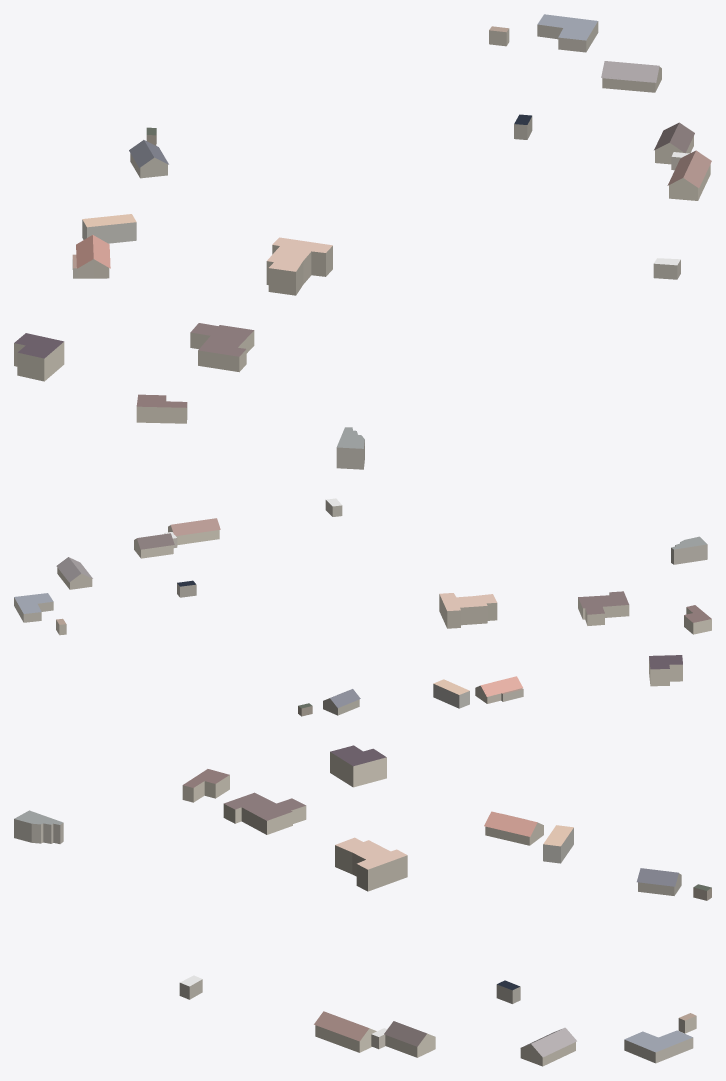
The picture shows the model from 3 angles, top to bottom: view 1: azimuth 30°, elevation 25°; view 2: azimuth 150°, elevation 25°; view 3: azimuth 270°, elevation 25°; orthographic projection. The views are drawn at different scales.
Visible parts, largest first — view 1: tuile; view 2: tuile; view 3: tuile.
Boxes of the visible parts, left/top/right/bottom form: tuile: left=14, top=14, right=711, bottom=469; tuile: left=14, top=498, right=711, bottom=716; tuile: left=14, top=745, right=711, bottom=1066.
Bounding box in the file's own units: 260 × 19.7 × 228.
